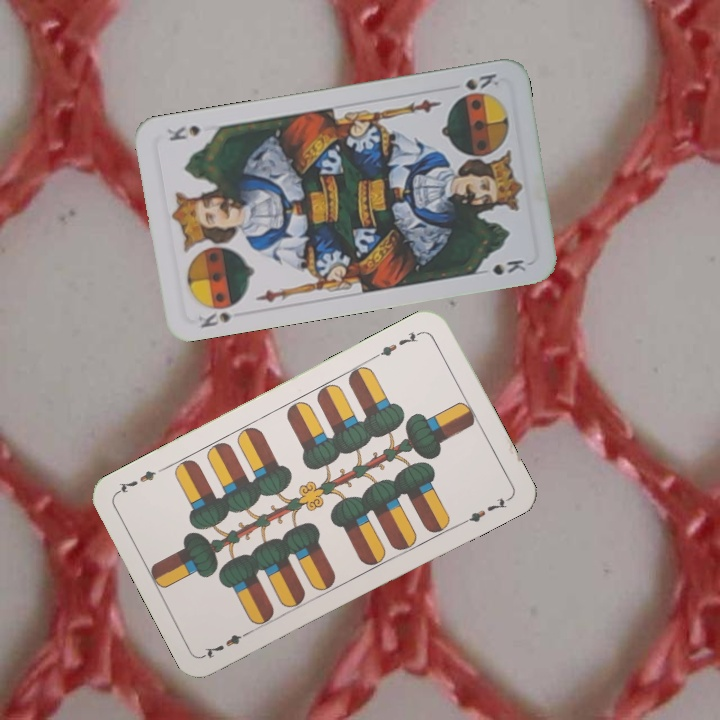E7: (200, 625, 255, 661), (370, 327, 425, 361)
SK: (461, 69, 502, 93), (194, 308, 234, 331)
